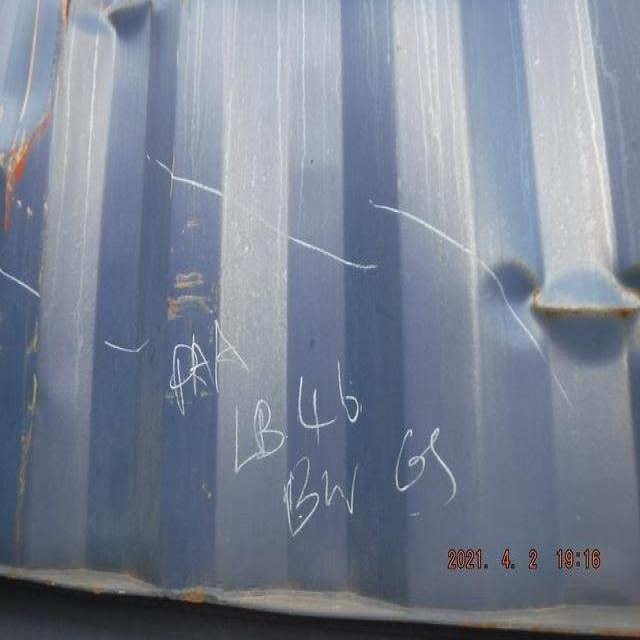dent: (468, 254, 640, 369), (55, 2, 174, 80)
